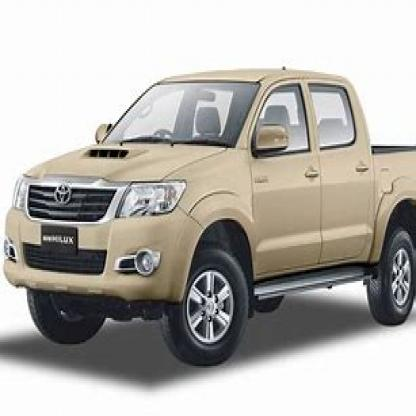light_vehicle: (8, 59, 415, 364)
